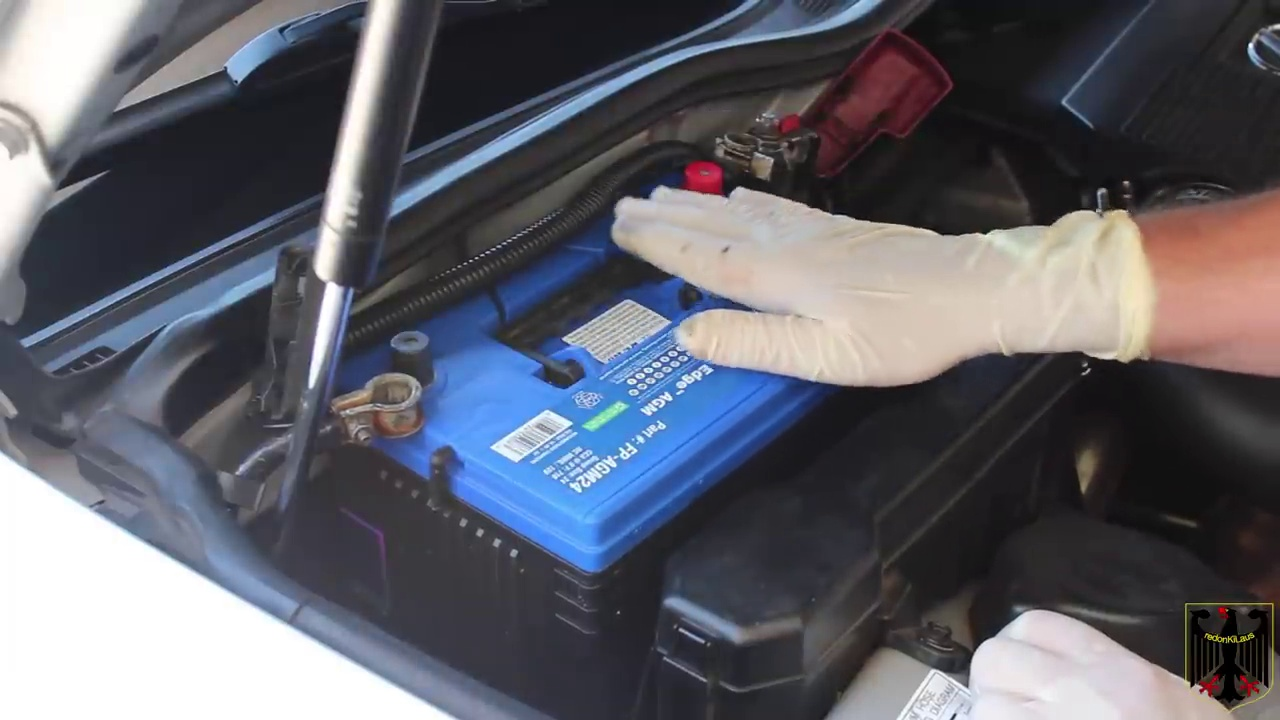battery: (334, 129, 852, 513)
pos_touched: (608, 56, 902, 282)
